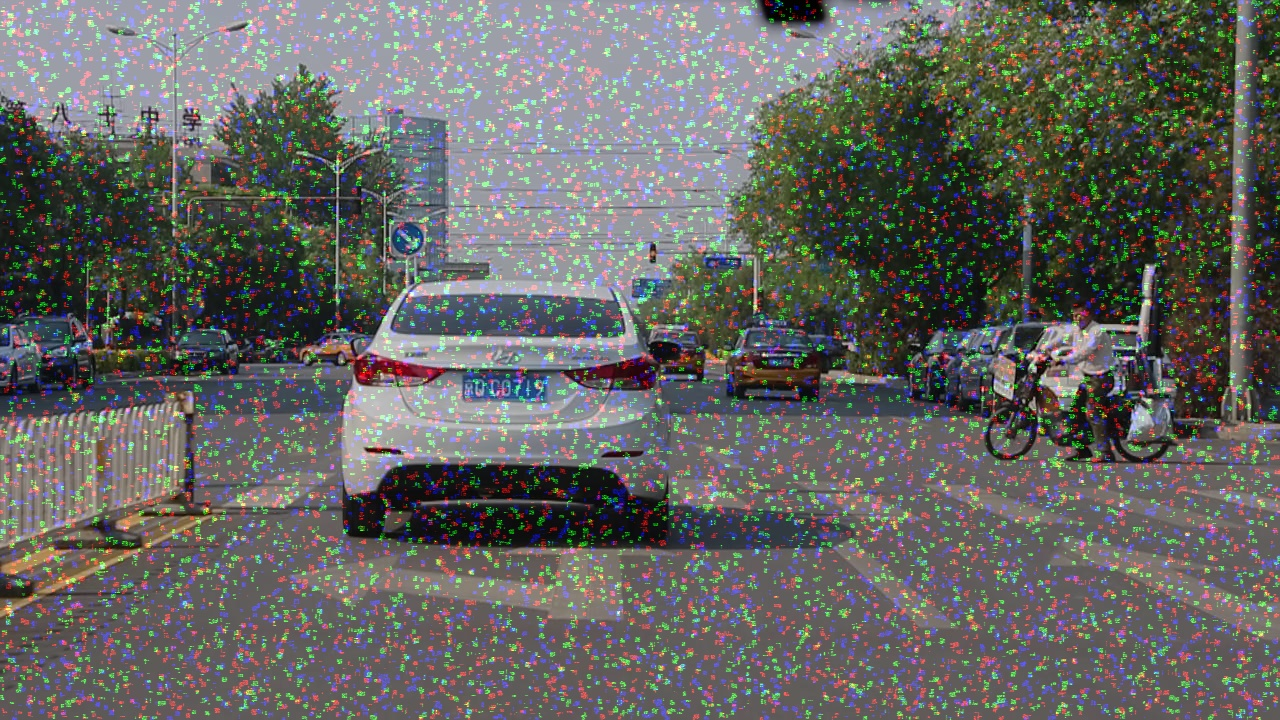Informative Signs: (390, 220, 426, 256)
